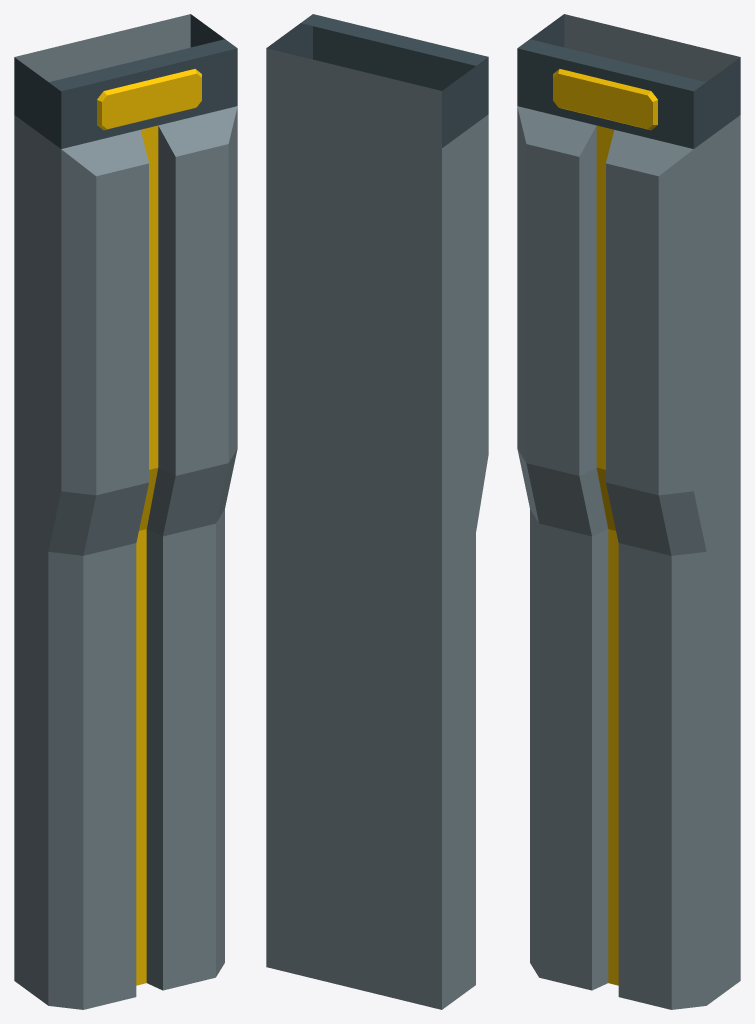
Rendered from Wall_type_C_022.002.fbx.
3 views of the same model, side by side, from view 1: azimuth 30°, elevation 25°; view 2: azimuth 150°, elevation 25°; view 3: azimuth 330°, elevation 25° (orthographic).
Visible parts, largest first — view 1: Wall_type_C_022.002; view 2: Wall_type_C_022.002; view 3: Wall_type_C_022.002.
Part boxes in pixels (left/top/right/bottom): Wall_type_C_022.002: left=14, top=14, right=237, bottom=1009; Wall_type_C_022.002: left=266, top=14, right=488, bottom=1009; Wall_type_C_022.002: left=517, top=14, right=740, bottom=1009.
Size of the model in its own units: 80 by 46.98 by 400.
